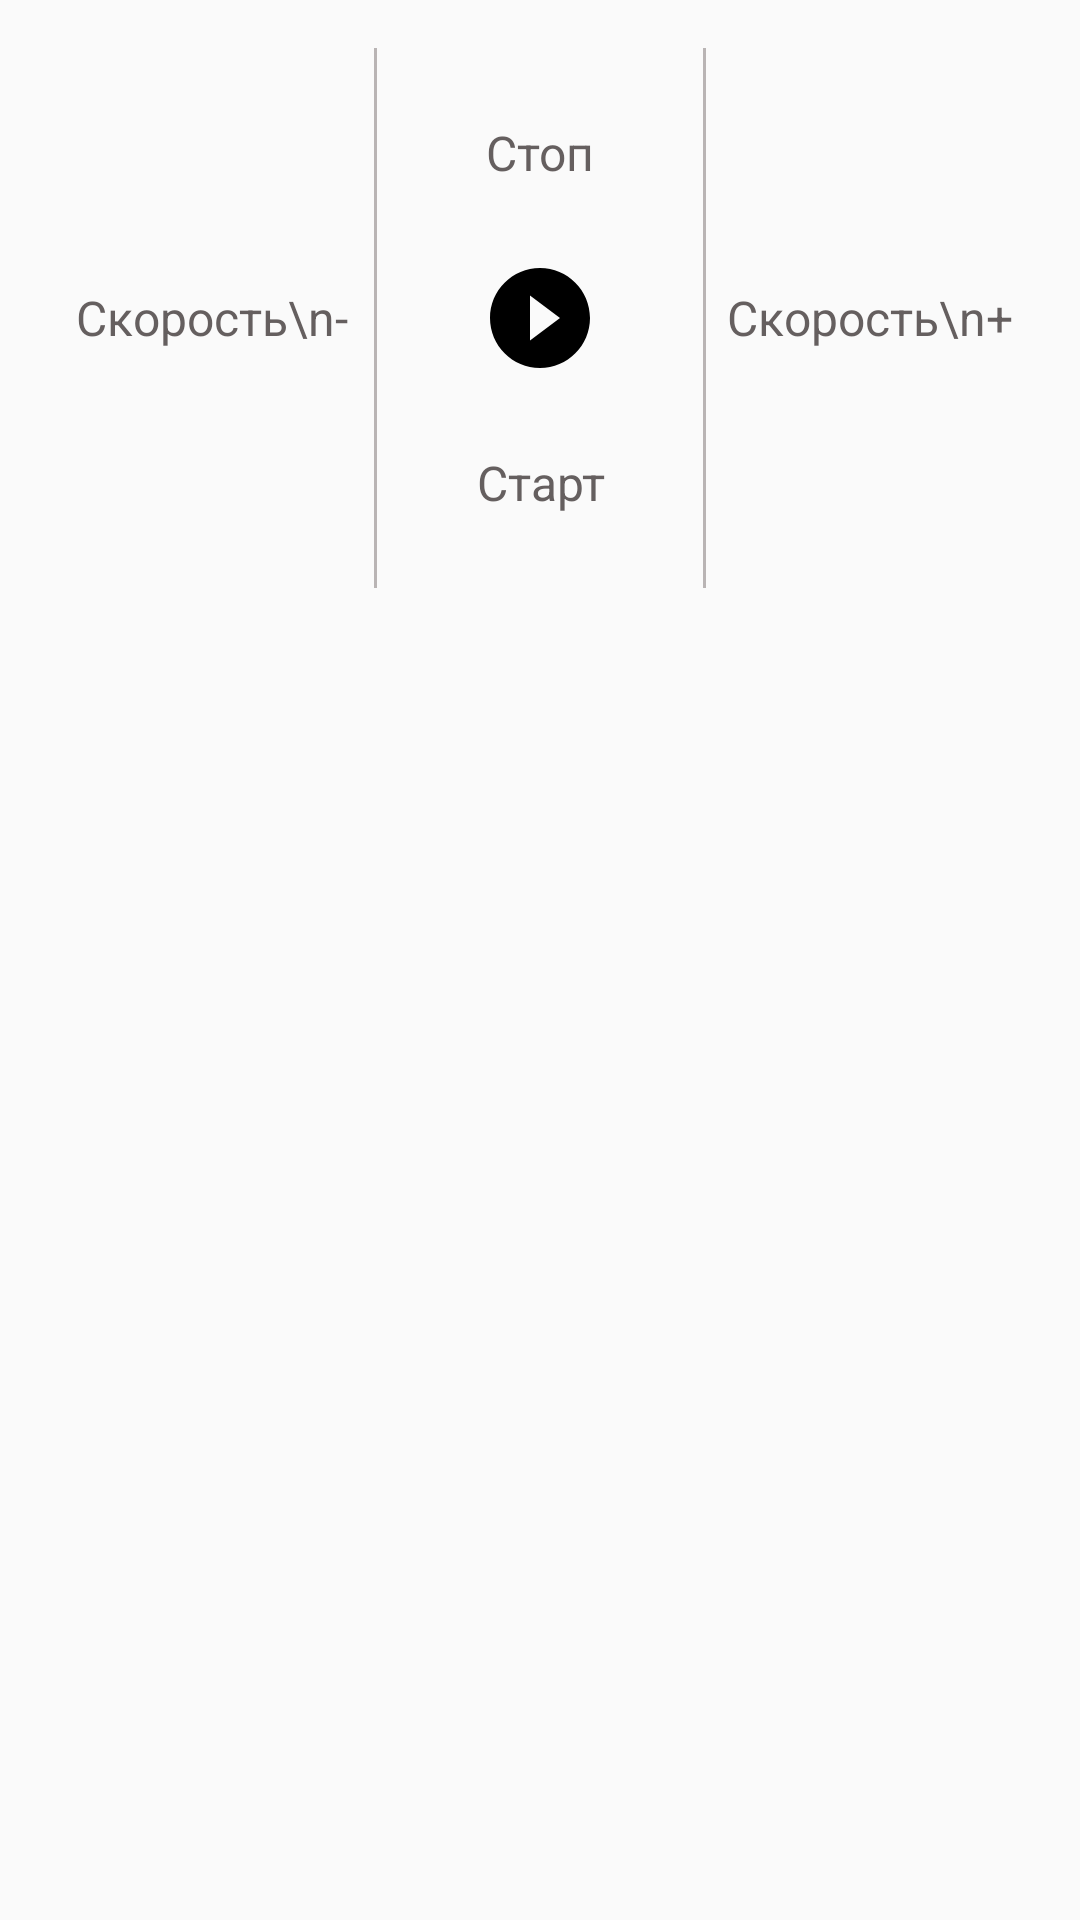

Named icons in this screenshot (1080w x 1920h) and their centers, (x=x, y=y):
start: (x=540, y=318)
